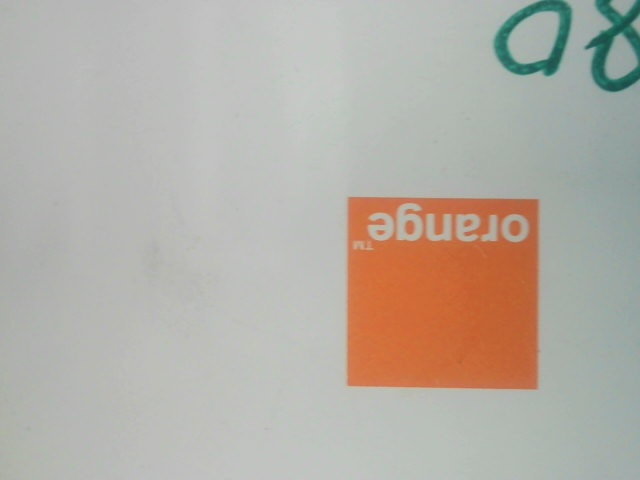AR_Orange: (329, 188, 545, 397)
